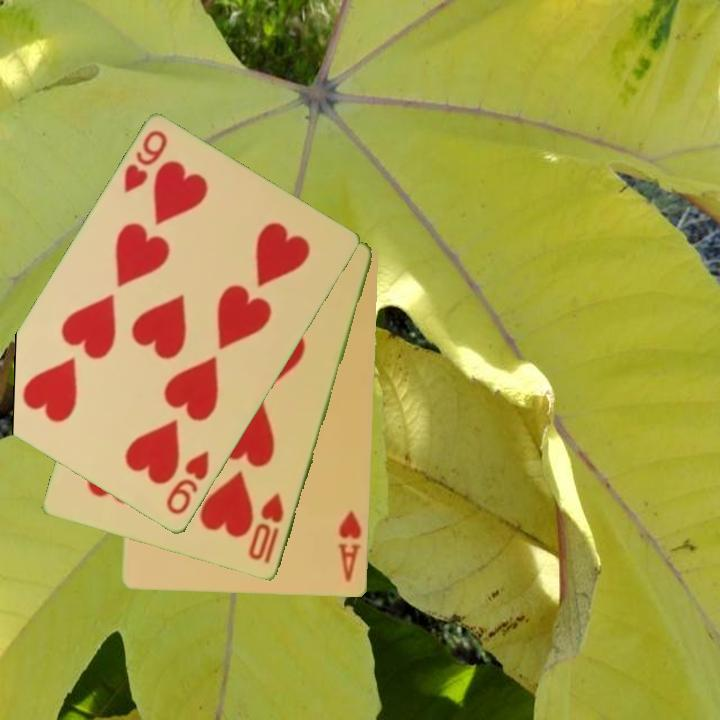10h: (245, 490, 287, 567)
9h: (162, 447, 213, 519), (120, 127, 171, 197)
Ah: (335, 507, 365, 585)
